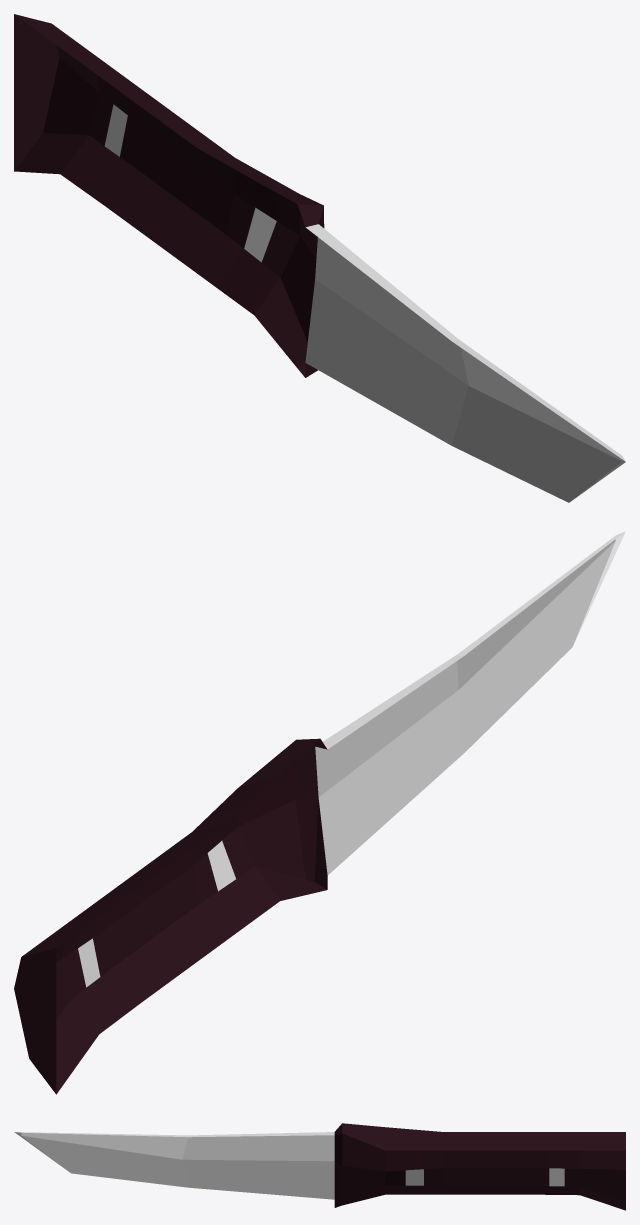
File: knife.glb
The picture shows the model from 3 angles, top to bottom: view 1: azimuth 30°, elevation 25°; view 2: azimuth 150°, elevation 25°; view 3: azimuth 270°, elevation 25°; orthographic projection. The views are drawn at different scales.
Parts seen in each view (by area): view 1: KNIFE; view 2: KNIFE; view 3: KNIFE.
Boxes of the visible parts, x1=… form: KNIFE: x1=14, y1=14, x2=625, y2=502; KNIFE: x1=14, y1=531, x2=625, y2=1094; KNIFE: x1=14, y1=1123, x2=625, y2=1210.
Bounding box in the file's own units: 0.1213 × 0.4454 × 2.83.
